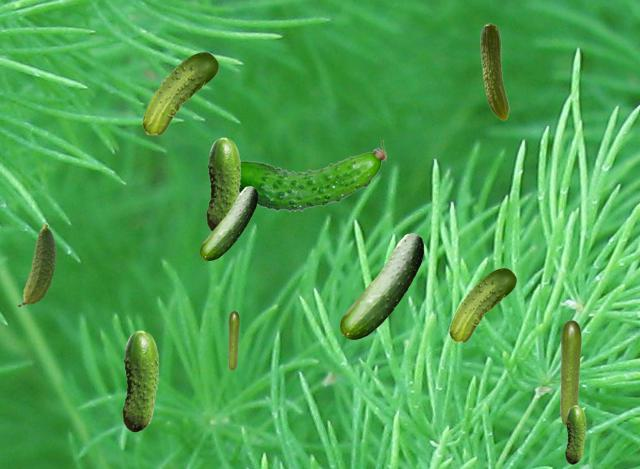cucumber: (240, 140, 385, 211), (340, 233, 422, 338), (142, 52, 217, 134), (449, 268, 515, 341), (200, 186, 256, 259), (122, 330, 158, 431), (206, 137, 240, 231), (18, 223, 55, 305), (480, 23, 508, 119), (560, 320, 580, 425), (565, 405, 585, 463), (228, 311, 238, 369)
